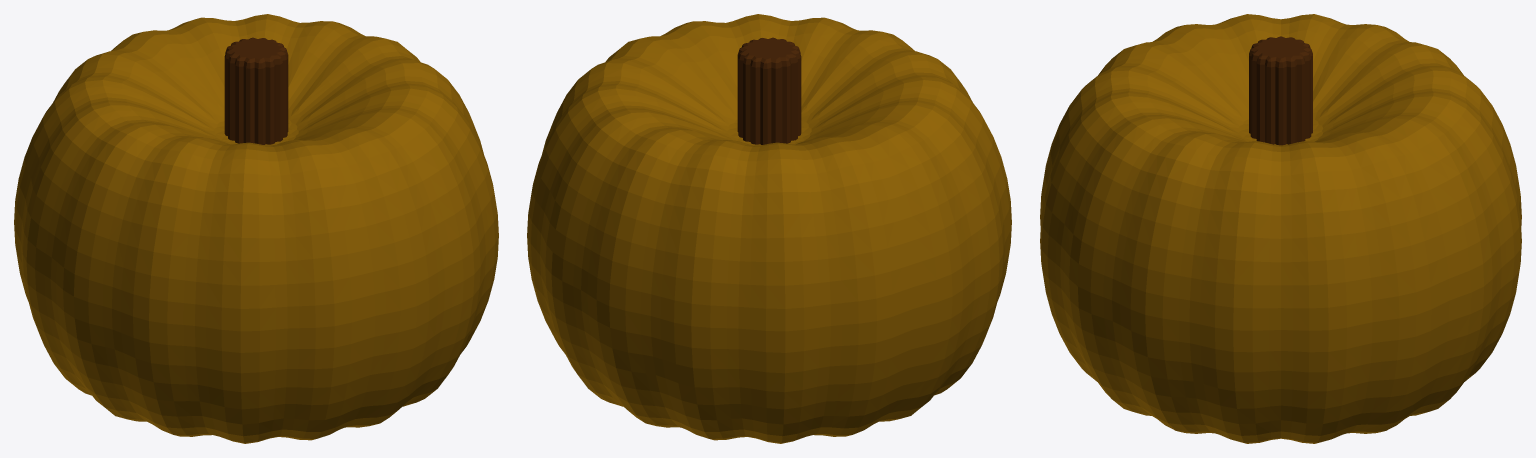
The model's file is Pumpkin.fbx.
The picture shows the model from 3 angles, left to right: view 1: azimuth 30°, elevation 25°; view 2: azimuth 150°, elevation 25°; view 3: azimuth 270°, elevation 25°; orthographic projection.
Visible parts, largest first — view 1: Pumpkin; view 2: Pumpkin; view 3: Pumpkin.
Part boxes in pixels (x1,y1,x2,y2): Pumpkin: (14,14,498,443); Pumpkin: (527,14,1011,443); Pumpkin: (1040,14,1521,443).
Size of the model in its own units: 199 by 199 by 149.
